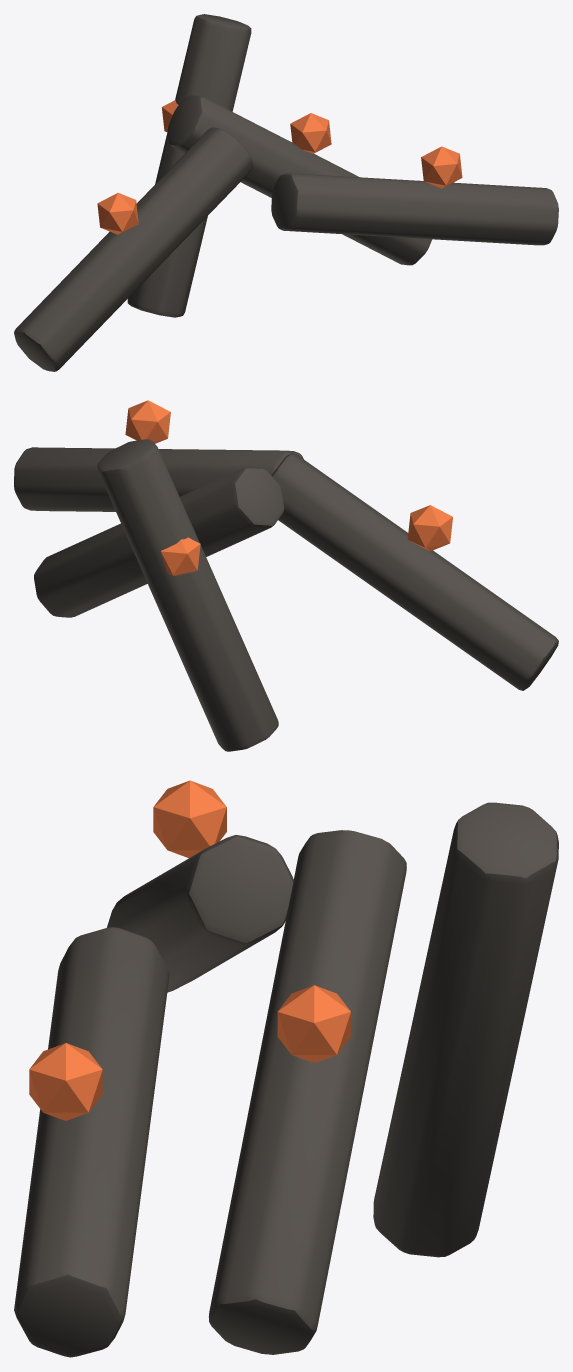
File: biome_ashen_bough_roots_v1.glb
3 renders of one model, top to bottom at view 1: azimuth 30°, elevation 25°; view 2: azimuth 150°, elevation 25°; view 3: azimuth 270°, elevation 25°, orthographic. The views are drawn at different scales.
Parts seen in each view (by area): view 1: AshRoot0, AshRoot3, AshRoot2, AshRoot1, CinderBud0, CinderBud3, CinderBud1; view 2: AshRoot0, AshRoot2, AshRoot1, AshRoot3, CinderBud0, CinderBud3, CinderBud2; view 3: AshRoot1, AshRoot2, AshRoot3, AshRoot0, CinderBud1, CinderBud3, CinderBud0.
Part boxes in pixels (x1,y1,x2,y2): AshRoot0: (14,127,253,371); AshRoot3: (271,173,558,245); AshRoot2: (127,14,251,317); AshRoot1: (167,95,432,265); CinderBud0: (97,192,138,234); CinderBud3: (421,146,462,188); CinderBud1: (290,113,331,153); AshRoot0: (271,453,558,690); AshRoot2: (97,439,278,751); AshRoot1: (34,467,284,617); AshRoot3: (14,447,303,511); CinderBud0: (407,505,452,551); CinderBud3: (125,400,170,443); CinderBud2: (160,537,200,575); AshRoot1: (208,830,406,1354); AshRoot2: (373,802,558,1257); AshRoot3: (14,927,169,1357); AshRoot0: (107,835,293,992); CinderBud1: (277,985,350,1062); CinderBud3: (29,1043,102,1120); CinderBud0: (153,780,226,857).
Size of the model in its own units: 3.01 by 1.53 by 1.51.
